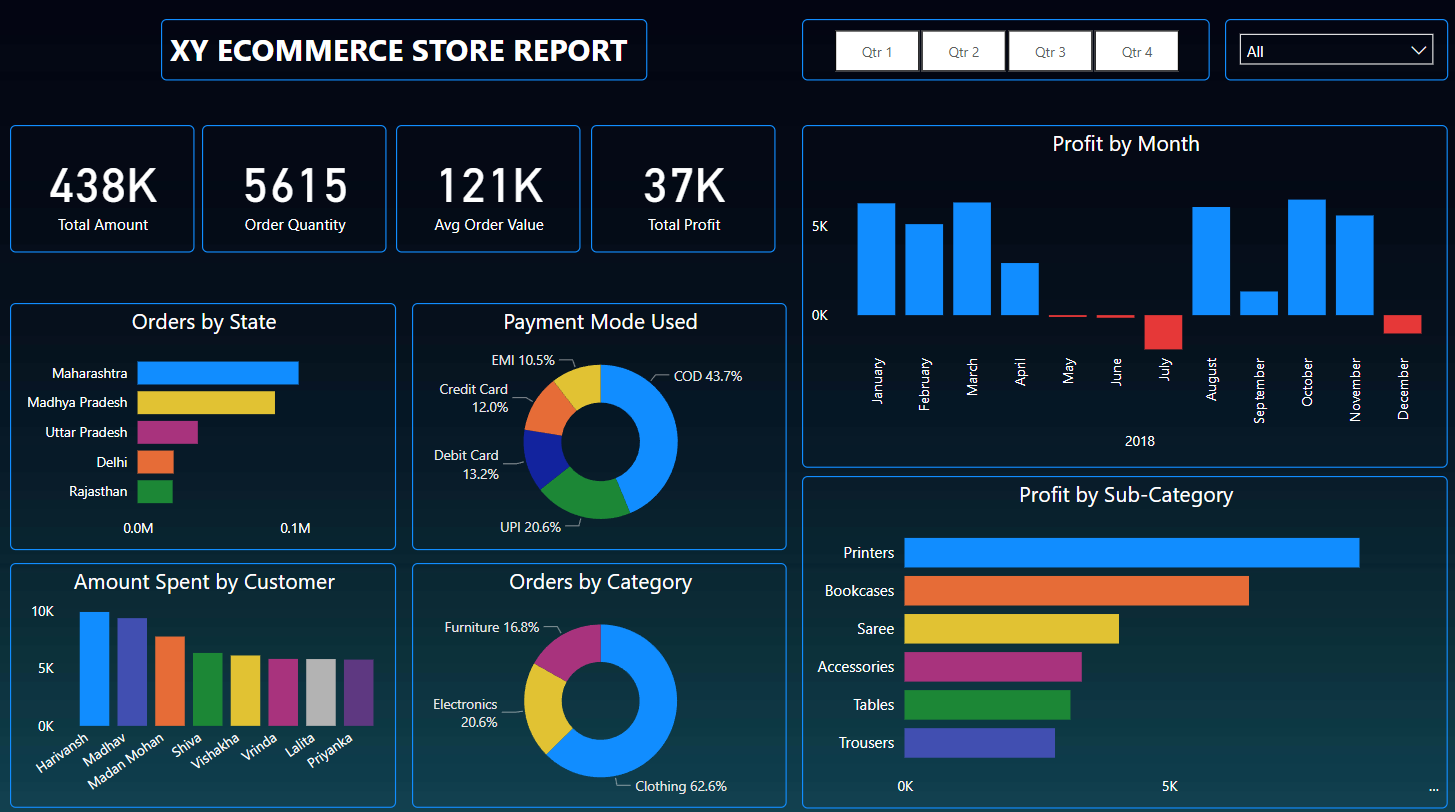

What the dashboard file says about the page in this screenshot:
{"tool":"powerbi","page":{"name":"Page 1","canvas":[1280,720],"ordinal":0},"visuals":[{"type":"textbox","box":[141.4,20.2,426.7,54.4],"z":0},{"type":"columnChart","title":"Profit by Month","fields":{"Y":["Details.Profit"],"Category":["Orders.Order Date.Variation.Date Hierarchy.Year","Orders.Order Date.Variation.Date Hierarchy.Month"]},"box":[704.2,113.3,567.2,301.2],"z":1000},{"type":"barChart","title":"Profit by Sub-Category","fields":{"Category":["Details.Sub-Category"],"Y":["Details.Profit"]},"box":[704.2,421.5,567.2,291.5],"z":1001},{"type":"donutChart","title":"Orders by Category","fields":{"Category":["Details.Category"],"Y":["Details.Quantity"]},"box":[361.8,497.9,329.3,215.1],"z":1002},{"type":"donutChart","title":"Payment Mode Used","fields":{"Y":["Details.Quantity"],"Category":["Details.PaymentMode"]},"box":[361.8,269.6,329.3,216.9],"z":1003},{"type":"card","fields":{"Values":["Details.Amount"]},"box":[8.8,113.3,161.6,111.5],"z":1004},{"type":"card","fields":{"Values":["Details.Quantity"]},"box":[177.4,113.3,161.6,111.5],"z":1005},{"type":"card","fields":{"Values":["Details.AOV"]},"box":[347.7,113.3,161.6,111.5],"z":1006},{"type":"card","fields":{"Values":["Details.Profit"]},"box":[518.9,113.3,161.6,111.5],"z":1007},{"type":"barChart","title":"Orders by State","fields":{"Category":["Orders.State"],"Y":["Details.Amount"]},"box":[8.8,269.6,338.9,216.9],"z":1008},{"type":"columnChart","title":"Amount Spent by Customer","fields":{"Category":["Orders.CustomerName"],"Y":["Details.Amount"]},"box":[9,498,339,215],"z":1009},{"type":"slicer","fields":{"Values":["Orders.Order Date.Variation.Date Hierarchy.Quarter"]},"box":[704.2,20.2,358.2,54.4],"z":1010},{"type":"slicer","fields":{"Values":["Orders.State"]},"box":[1075.6,20.2,195.8,54.4],"z":1011}]}

Visuals, with their boxes in screenshot pixels (x1, y1, x2, y2), scaled from the page's 1280x720 canvas onto the 1455x812 screenshot:
textbox: x1=161, y1=23, x2=646, y2=84
"Profit by Month" columnChart: x1=800, y1=128, x2=1445, y2=467
"Profit by Sub-Category" barChart: x1=800, y1=475, x2=1445, y2=804
"Orders by Category" donutChart: x1=411, y1=562, x2=786, y2=804
"Payment Mode Used" donutChart: x1=411, y1=304, x2=786, y2=549
card - Details.Amount: x1=10, y1=128, x2=194, y2=254
card - Details.Quantity: x1=202, y1=128, x2=385, y2=254
card - Details.AOV: x1=395, y1=128, x2=579, y2=254
card - Details.Profit: x1=590, y1=128, x2=774, y2=254
"Orders by State" barChart: x1=10, y1=304, x2=395, y2=549
"Amount Spent by Customer" columnChart: x1=10, y1=562, x2=396, y2=804
slicer - Orders.Order Date.Variation.Date Hierarchy.Quarter: x1=800, y1=23, x2=1208, y2=84
slicer - Orders.State: x1=1223, y1=23, x2=1445, y2=84
